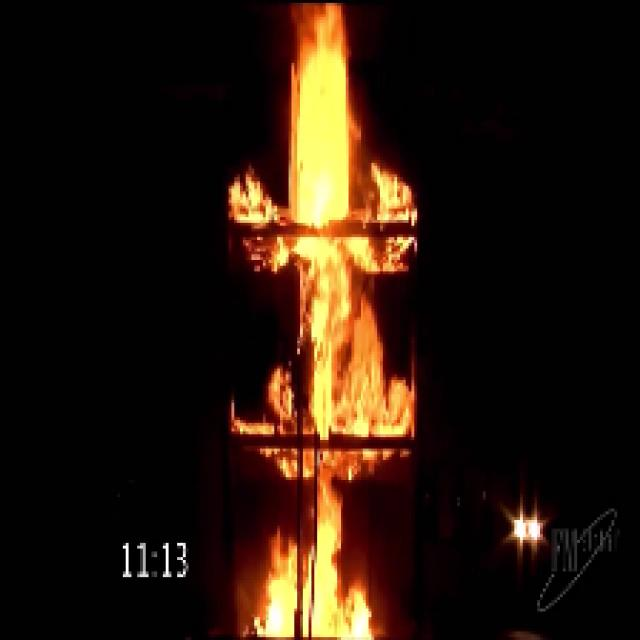smoke: (262, 6, 378, 635)
